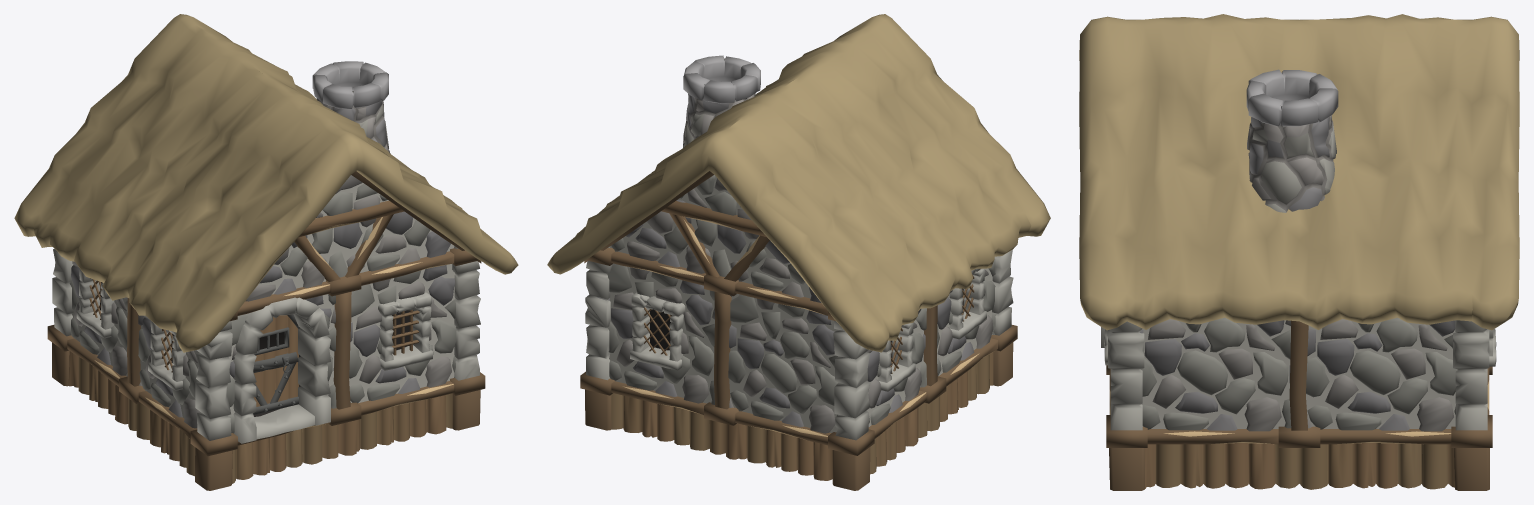
Rendered from rpgpp_ag_building_closed_07.fbx.
The picture shows the model from 3 angles, left to right: view 1: azimuth 30°, elevation 25°; view 2: azimuth 150°, elevation 25°; view 3: azimuth 270°, elevation 25°; orthographic projection. The views are drawn at different scales.
Parts seen in each view (by area): view 1: rpgpp_ag_building_closed_07; view 2: rpgpp_ag_building_closed_07; view 3: rpgpp_ag_building_closed_07.
Boxes of the visible parts, x1,y1,x2,y2 form: rpgpp_ag_building_closed_07: [14, 14, 518, 490]; rpgpp_ag_building_closed_07: [547, 14, 1050, 490]; rpgpp_ag_building_closed_07: [1079, 14, 1519, 490].
Bounding box in the file's own units: 8.13 × 7.54 × 7.66.
